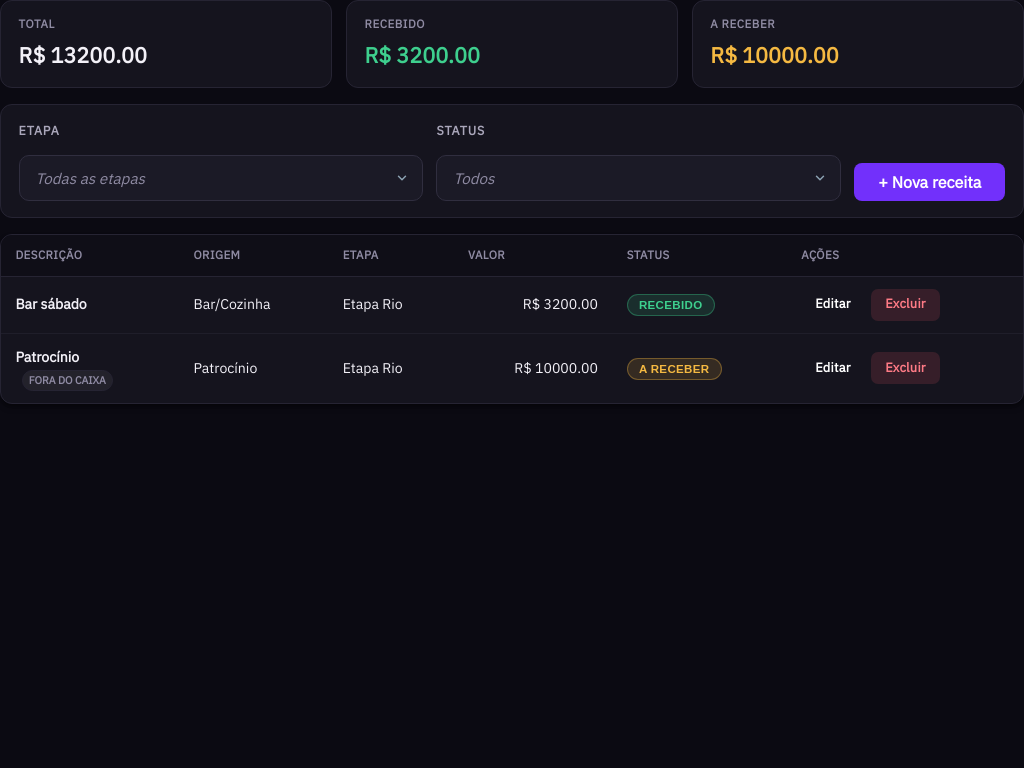
criação › valor precisa ser maior que zero
The width and height of the screenshot is (1024, 768).
Expected: the row that starts with "Bar sábado" is shown, top-left (1, 276), bottom-right (1023, 333)
Click the button "+ Nova receita". click: (930, 182)
box: top-left (854, 163), bottom-right (1005, 201)
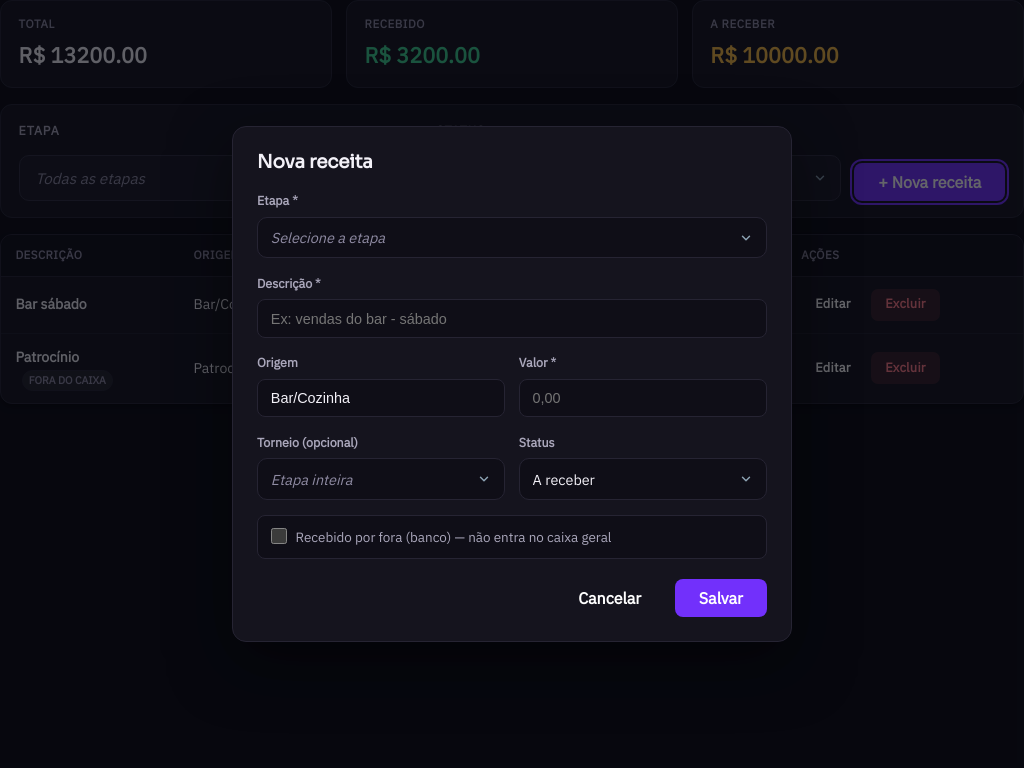
Select "Etapa Rio" in the 1st dropdown. click: (512, 238)
box: top-left (257, 217), bottom-right (767, 258)
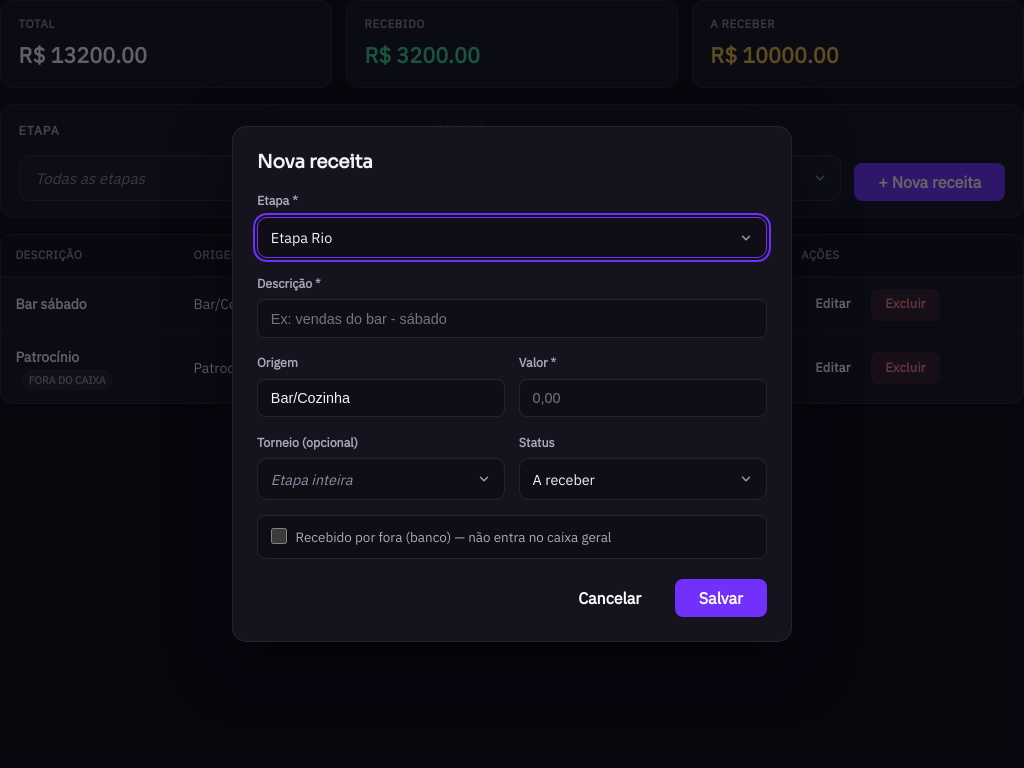
Type "X" into the field with placeholder "Ex: vendas do bar - sábado". click: (512, 318)
box: top-left (257, 299), bottom-right (767, 338)
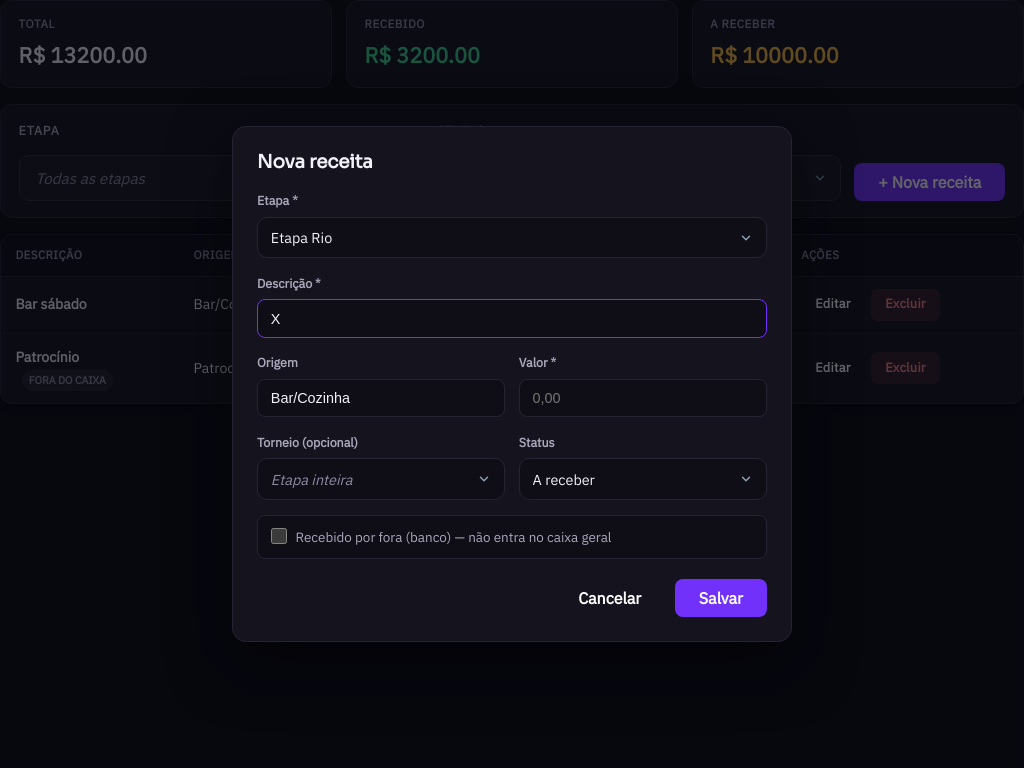
Type "0" into the number field with placeholder "0,00". click: (643, 398)
box: top-left (519, 379), bottom-right (767, 418)
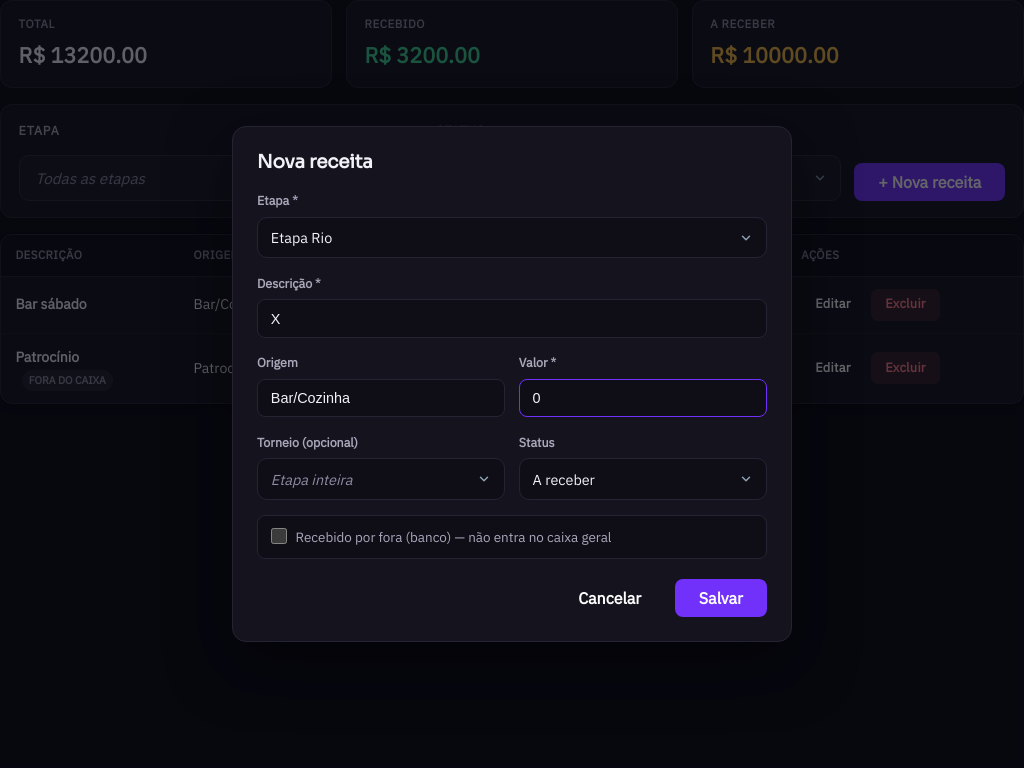
Click the submit button. click: (721, 598)
box: top-left (675, 579), bottom-right (767, 617)
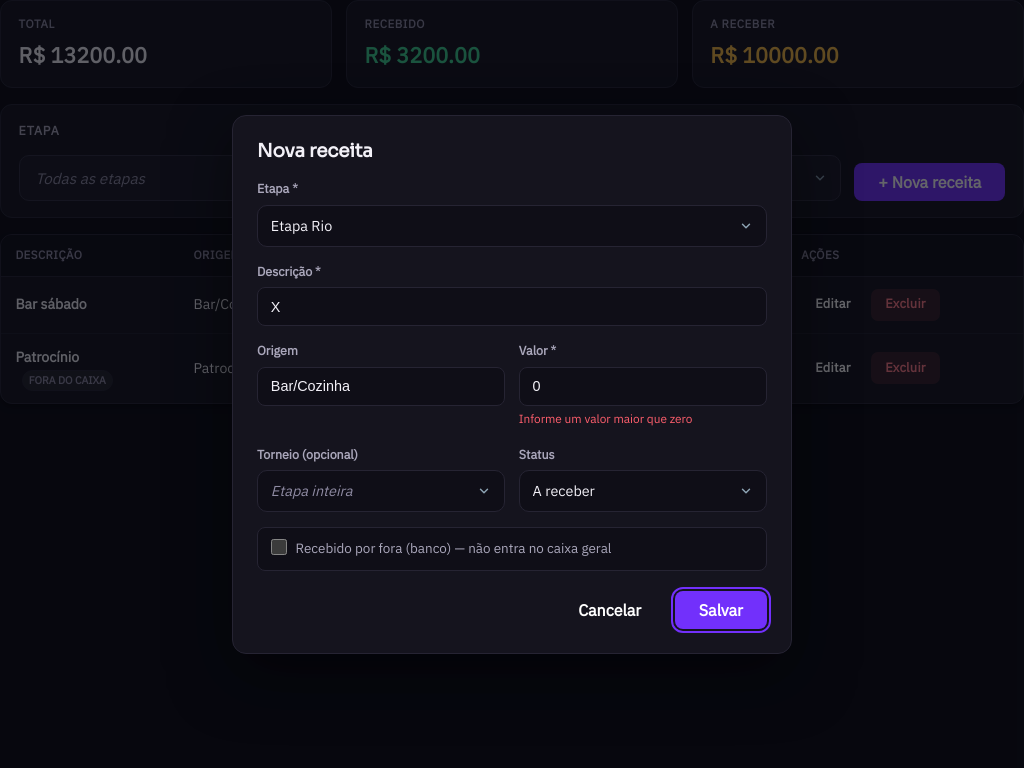
Now the text "Informe um valor maior que zero" is shown, box top-left (519, 411), bottom-right (692, 426)
